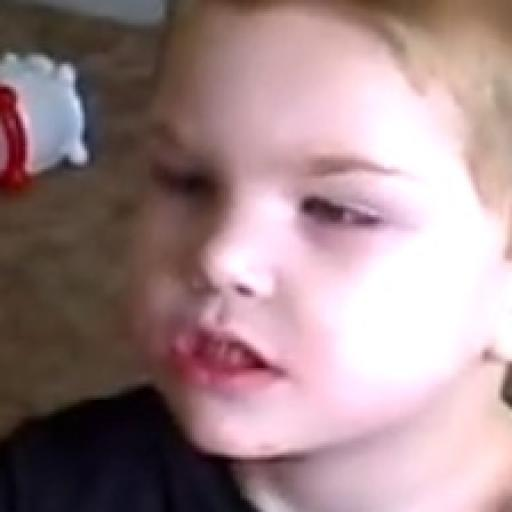Autism: (84, 13, 512, 509)
